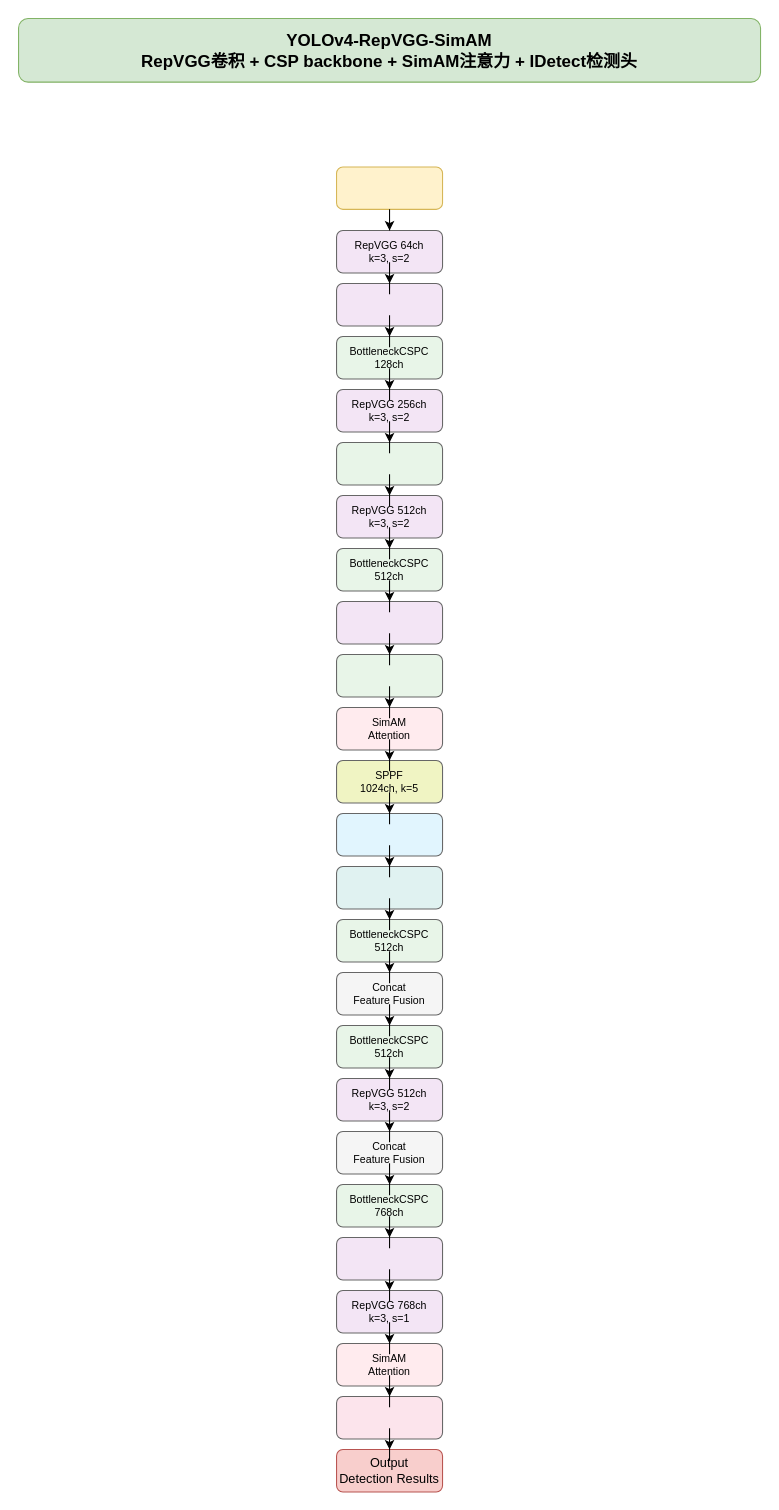
Some shapes in this 779 by 1510 pixel diagram are drawn without their labels. Each missing label, with the centre of its shape:
BottleneckCSPC 1024ch: point 389,675
BottleneckCSPC 256ch: point 389,463
Conv 512ch k=1, s=1: point 389,834
IDetect Classes: nc: point 389,1417
Input Image 640×640×3: point 389,187
RepVGG 1024ch k=3, s=2: point 389,622
RepVGG 128ch k=3, s=2: point 389,304
RepVGG 512ch k=3, s=1: point 389,1258
Upsample ×2: point 389,887
